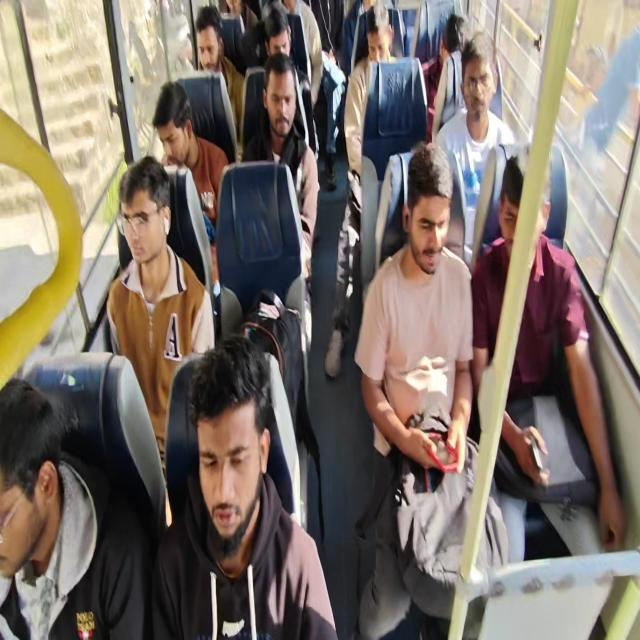person: (353, 142, 508, 638), (471, 147, 626, 564), (150, 334, 338, 638), (0, 376, 153, 639), (324, 2, 428, 378), (106, 155, 216, 502), (240, 52, 320, 352), (434, 31, 516, 270), (152, 80, 229, 301), (241, 1, 320, 161), (194, 5, 246, 146), (428, 13, 467, 142)
